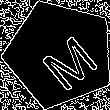M_NW: (25, 20, 95, 88)
